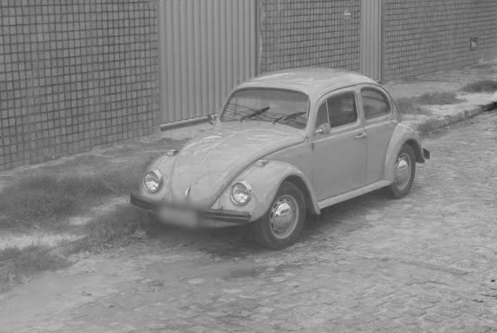car: (127, 64, 432, 251)
